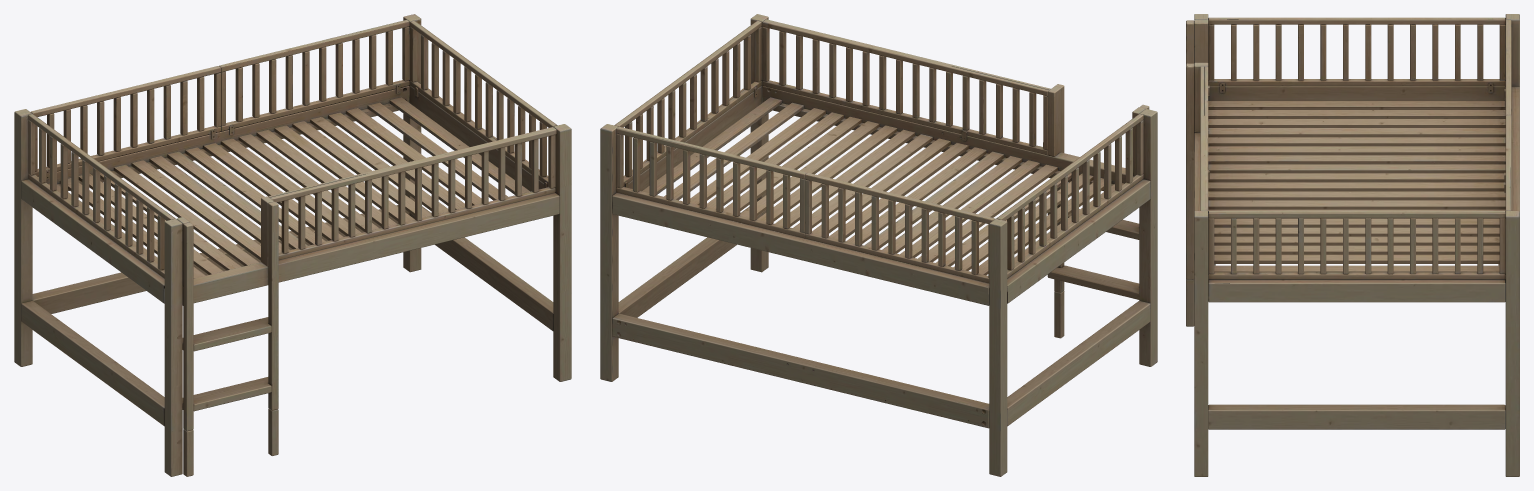
3 renders of one model, left to right at view 1: azimuth 30°, elevation 25°; view 2: azimuth 150°, elevation 25°; view 3: azimuth 270°, elevation 25°, orthographic. The views are drawn at different scales.
Visible parts, largest first — view 1: 190x120; view 2: 190x120; view 3: 190x120.
Boxes of the visible parts, box(x1,y1,x2,y2) form: 190x120: box(14, 14, 571, 476); 190x120: box(600, 14, 1157, 476); 190x120: box(1186, 14, 1519, 476).
Size of the model in its own units: 2.02 by 1.21 by 1.4.
Materials: 1 (1 with a texture image).
